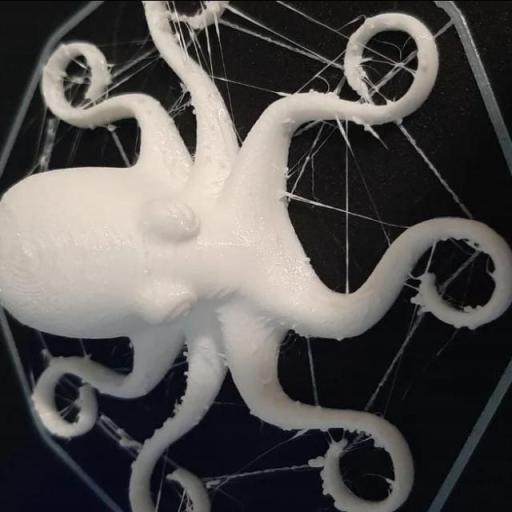stringing: (218, 0, 338, 74), (202, 455, 325, 494), (286, 127, 330, 207), (176, 23, 217, 59), (102, 418, 134, 452), (372, 53, 412, 70), (372, 68, 396, 92)
